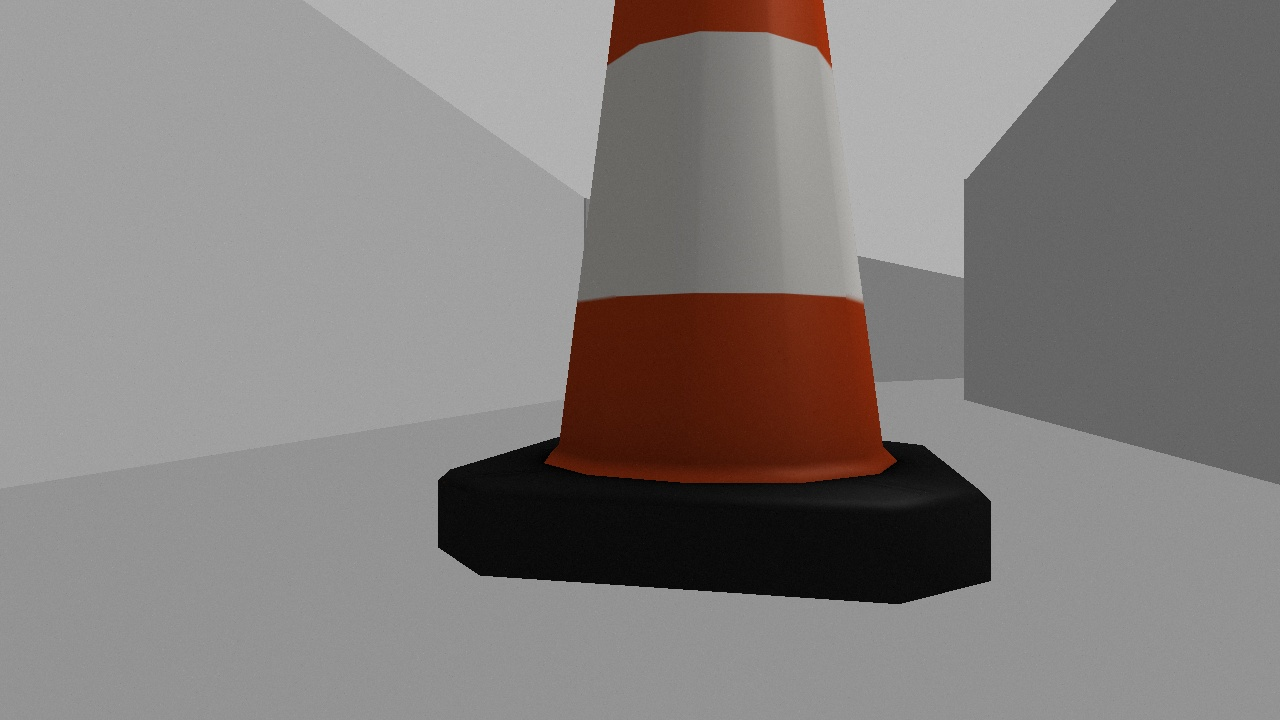barricade: (436, 1, 989, 605)
